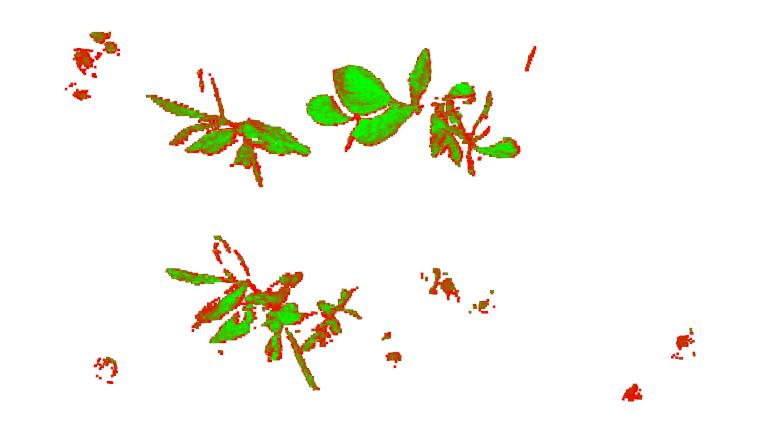mungbean: (164, 233, 364, 392), (308, 48, 522, 178), (144, 66, 307, 189)
